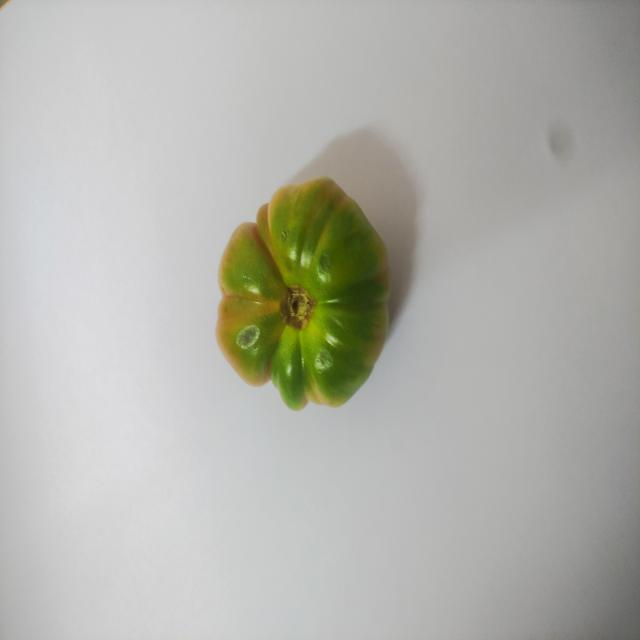yesil: (206, 175, 407, 419)
